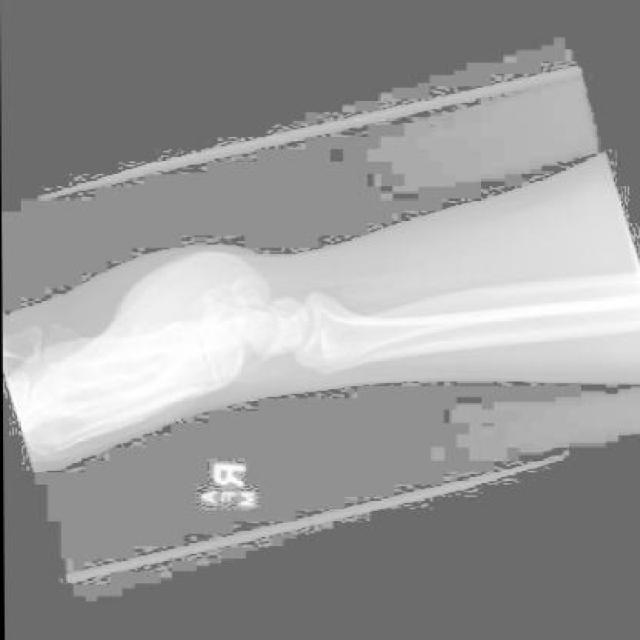Fracture: (249, 332, 294, 371)
